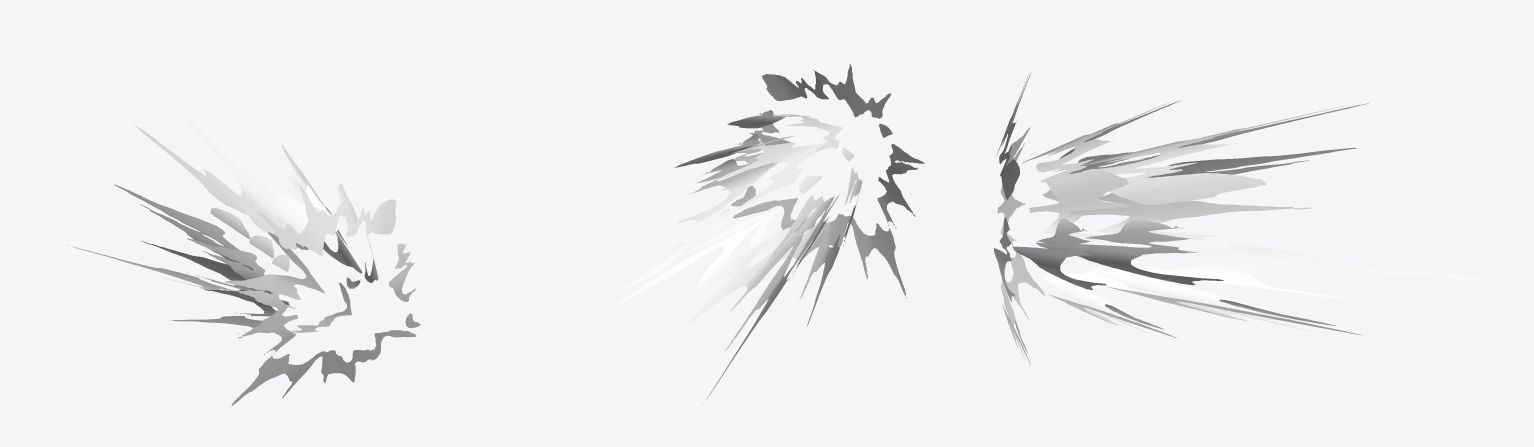
The model's file is Eff_Hit_cylinder02.FBX.
3 renders of one model, left to right at view 1: azimuth 30°, elevation 25°; view 2: azimuth 150°, elevation 25°; view 3: azimuth 270°, elevation 25°, orthographic. The views are drawn at different scales.
Visible parts, largest first — view 1: Hit_Cylinder003, Hit_Cylinder002, Hit_Cylinder01; view 2: Hit_Cylinder003, Hit_Cylinder002, Hit_Cylinder01; view 3: Hit_Cylinder003, Hit_Cylinder01, Hit_Cylinder002.
Boxes of the visible parts, <box> form: Hit_Cylinder003: <box>67,108,362,308</box>; Hit_Cylinder002: <box>225,183,420,407</box>; Hit_Cylinder01: <box>169,160,378,333</box>; Hit_Cylinder003: <box>615,136,839,404</box>; Hit_Cylinder002: <box>731,64,924,297</box>; Hit_Cylinder01: <box>690,114,862,329</box>; Hit_Cylinder003: <box>1036,103,1495,335</box>; Hit_Cylinder01: <box>1012,100,1189,337</box>; Hit_Cylinder002: <box>993,71,1046,364</box>.
Bounding box in the file's own units: 4.71 × 4.71 × 5.94.
